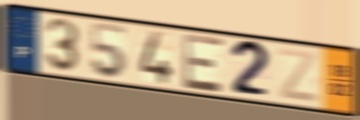2: (227, 39, 275, 101)
3: (44, 16, 80, 75)
4: (138, 28, 175, 86)
5: (89, 19, 129, 82)
E: (181, 31, 227, 95)
Z: (275, 46, 321, 106)
